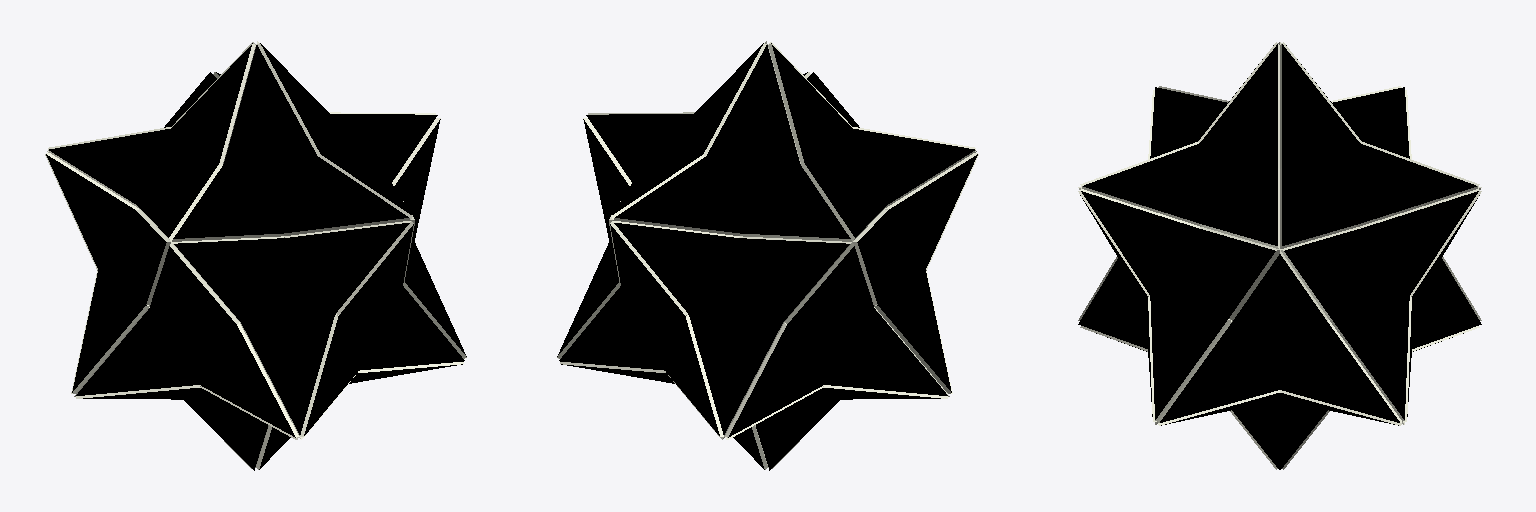
File: blackAsteroid.obj
3 renders of one model, left to right at view 1: azimuth 30°, elevation 25°; view 2: azimuth 150°, elevation 25°; view 3: azimuth 270°, elevation 25°, orthographic.
Parts seen in each view (by area): view 1: Icosphere_Icosphere.002; view 2: Icosphere_Icosphere.002; view 3: Icosphere_Icosphere.002.
Part boxes in pixels (bbox=[...]): Icosphere_Icosphere.002: bbox=[45, 41, 466, 470]; Icosphere_Icosphere.002: bbox=[557, 41, 978, 470]; Icosphere_Icosphere.002: bbox=[1078, 42, 1481, 469].
Bounding box in the file's own units: 5.25 × 5.83 × 5.